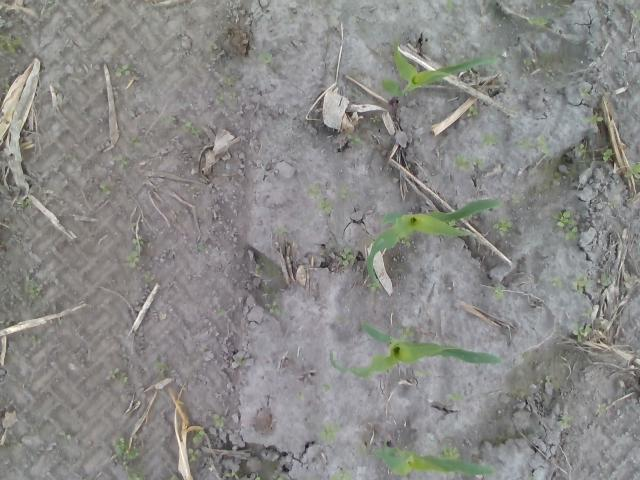Maize: (328, 319, 504, 382), (365, 198, 501, 278), (379, 38, 498, 99), (372, 438, 496, 480)
Weeds: (112, 436, 144, 480), (550, 206, 580, 242), (306, 182, 332, 213), (448, 151, 483, 172), (187, 429, 205, 467), (520, 133, 548, 154), (0, 32, 25, 54), (238, 469, 287, 480), (126, 236, 142, 268), (571, 272, 592, 294), (569, 321, 592, 339), (320, 420, 338, 442), (26, 271, 41, 297), (526, 14, 552, 28), (494, 218, 514, 234), (112, 63, 134, 77), (96, 183, 112, 202), (339, 246, 354, 266), (111, 368, 129, 384), (440, 446, 460, 460), (584, 114, 604, 128), (183, 120, 200, 136), (546, 274, 564, 288), (328, 470, 352, 480), (264, 300, 281, 314), (625, 162, 640, 177), (399, 326, 415, 340), (479, 134, 497, 146), (559, 415, 574, 429), (113, 154, 128, 168), (0, 18, 16, 30), (17, 197, 33, 209), (159, 116, 178, 126), (596, 272, 609, 286), (446, 392, 464, 402), (574, 143, 586, 158), (55, 430, 75, 439), (254, 257, 264, 275), (347, 132, 362, 144), (414, 368, 432, 378), (320, 382, 337, 392), (261, 52, 274, 65), (510, 194, 526, 204), (596, 402, 608, 415), (213, 414, 224, 428), (339, 186, 349, 201), (272, 226, 288, 235), (366, 280, 380, 290), (602, 148, 612, 161), (466, 106, 479, 116), (369, 114, 382, 124), (494, 286, 504, 298), (193, 242, 205, 252), (150, 359, 163, 368), (578, 87, 590, 96), (222, 76, 234, 85), (401, 239, 413, 248), (0, 78, 10, 88), (295, 391, 305, 401), (216, 307, 226, 317), (62, 152, 72, 161), (215, 96, 224, 106), (544, 372, 550, 386), (446, 0, 455, 9), (584, 308, 592, 318), (608, 200, 616, 210), (208, 46, 218, 52), (635, 8, 640, 18), (32, 335, 38, 343), (46, 0, 52, 4)
